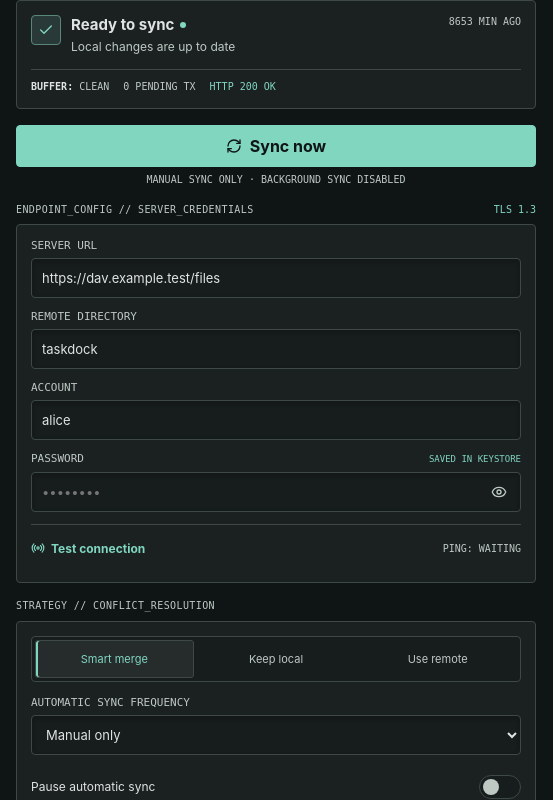
Scenario: reveals a saved password only after an explicit eye-button tap
Click the button named "Show saved password": click(499, 492) [483,476,515,508]
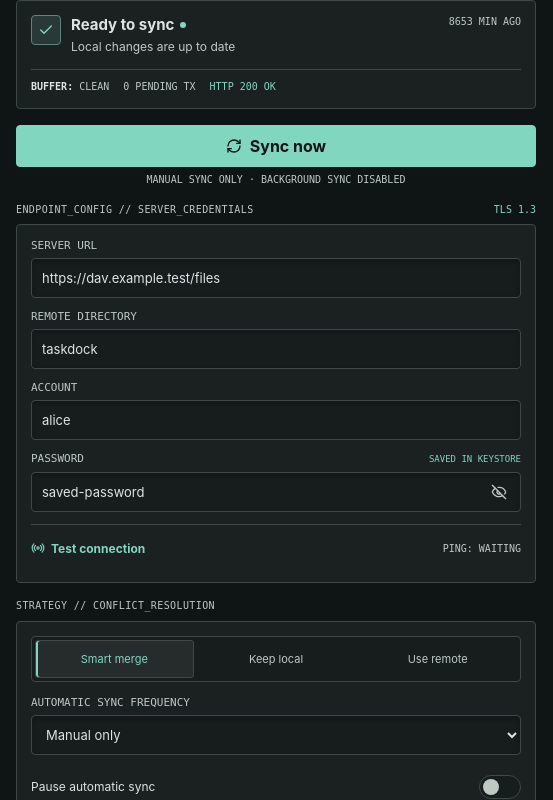
Expected: the field labelled "Password SAVED IN KEYSTORE" holds "saved-password", [31,472,521,512]
Expected: the field labelled "Password SAVED IN KEYSTORE" shows its text, [31,472,521,512]
Expected: the button named "Hide password" is shown, [483,476,515,508]
